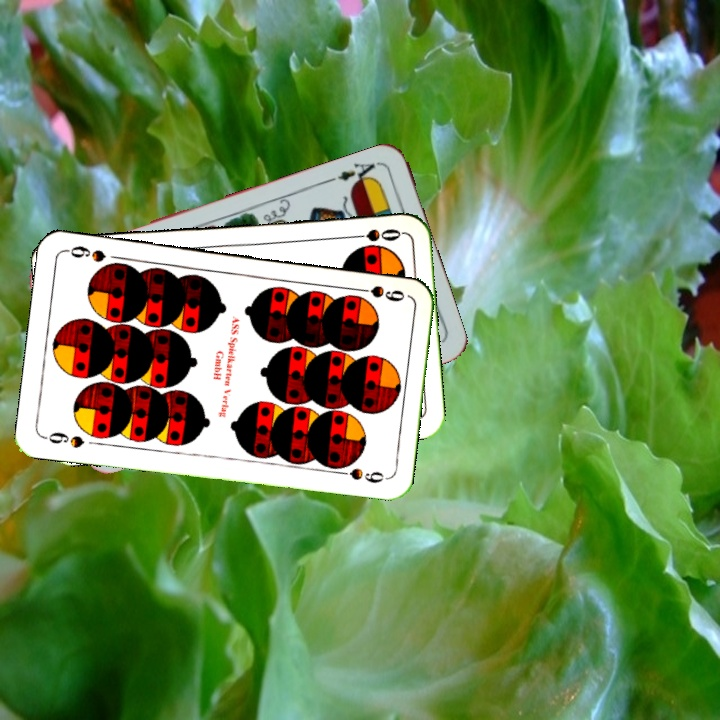EA: (333, 158, 382, 190)
S9: (350, 281, 408, 305), (40, 427, 87, 451)
SO: (345, 224, 405, 245)
